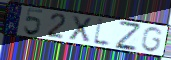2: (46, 12, 67, 40)
5: (23, 7, 45, 37)
G: (139, 26, 164, 54)
L: (91, 16, 113, 50)
X: (68, 15, 93, 43)
Z: (114, 19, 141, 52)
